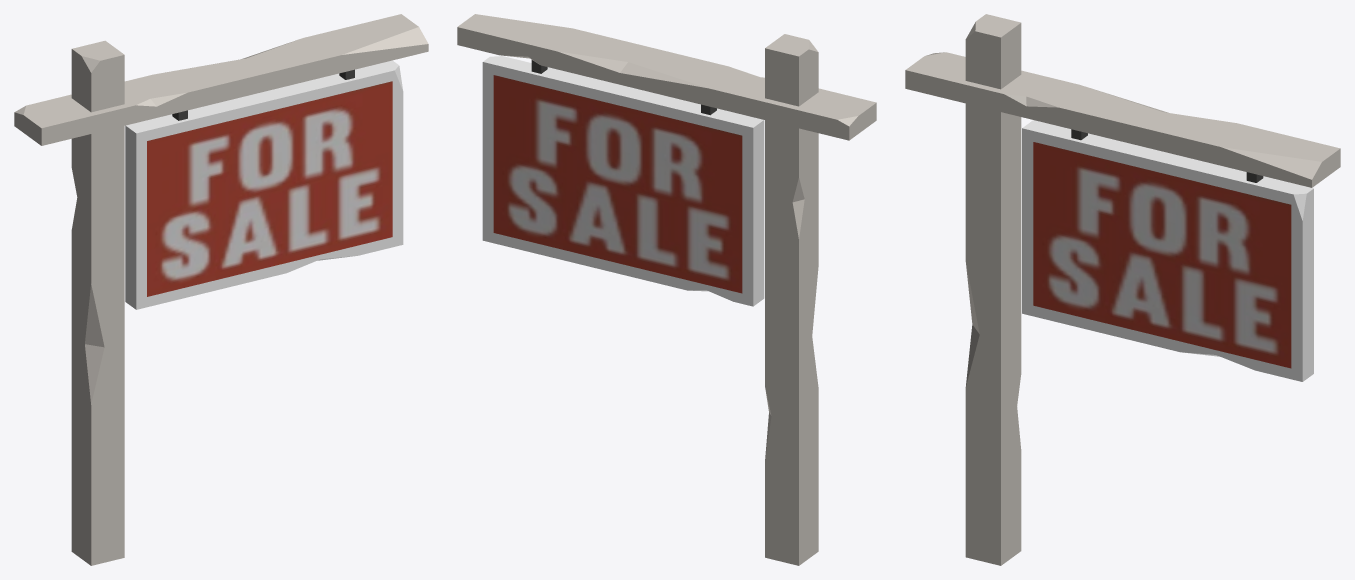
File: ForSaleSign.glb
The picture shows the model from 3 angles, left to right: view 1: azimuth 30°, elevation 25°; view 2: azimuth 150°, elevation 25°; view 3: azimuth 330°, elevation 25°; orthographic projection. The views are drawn at different scales.
Visible parts, largest first — view 1: SM_Prop_ForSaleSign_01; view 2: SM_Prop_ForSaleSign_01; view 3: SM_Prop_ForSaleSign_01.
Part boxes in pixels (box(x1,y1,x2,y2)): SM_Prop_ForSaleSign_01: box(14, 14, 428, 565); SM_Prop_ForSaleSign_01: box(457, 14, 876, 565); SM_Prop_ForSaleSign_01: box(905, 14, 1340, 565).
Bounding box in the file's own units: 1.66 × 2.07 × 0.2024.
1 material, 1 textured.
